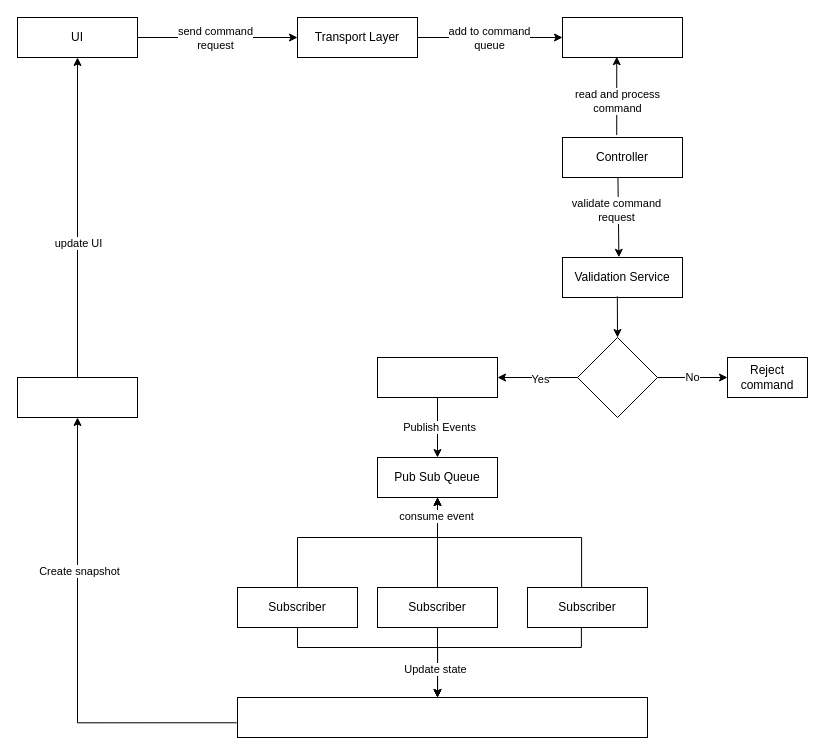
This 825x755 diagram has some shape labels left out. Here are the shapes that lost their labels. From the top down, the centre of each, then its label:
At [622,37]: "Command Queue".
At [77,397]: "Snapshot".
At [437,377]: "Create relevant events".
At [617,377]: "Is valid request?".
At [442,717]: "Game state".
